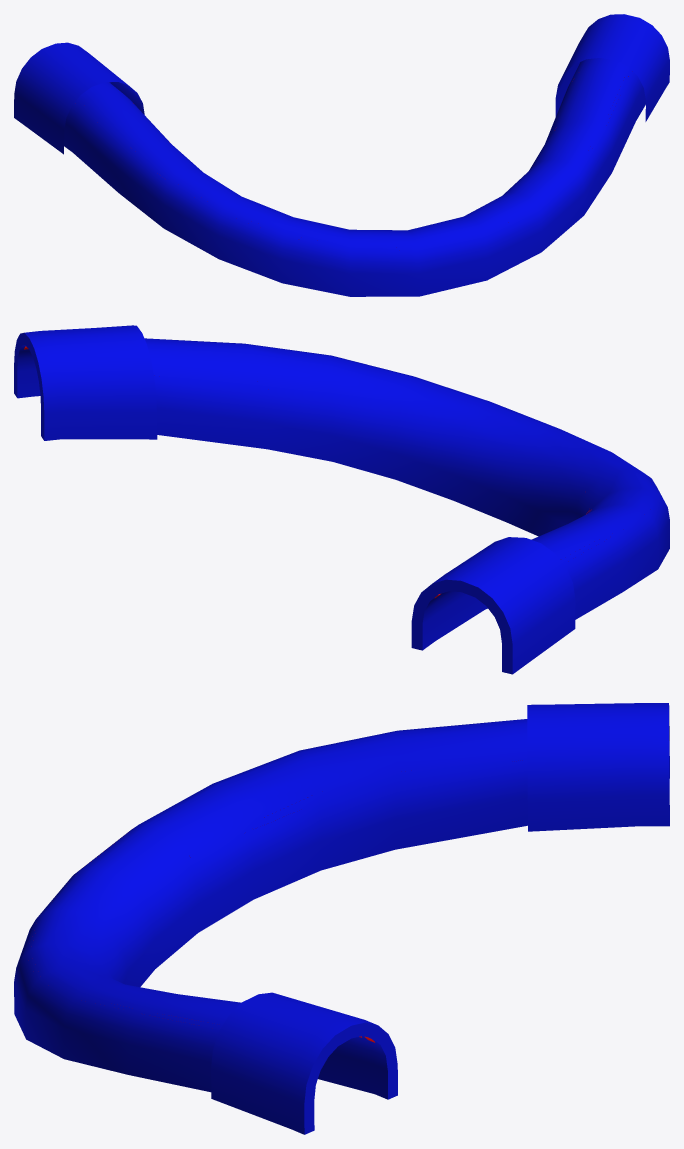
File: Tunnel_Mesh.fbx
3 renders of one model, top to bottom at view 1: azimuth 30°, elevation 25°; view 2: azimuth 150°, elevation 25°; view 3: azimuth 270°, elevation 25°, orthographic. The views are drawn at different scales.
Visible parts, largest first — view 1: Tunnel; view 2: Tunnel; view 3: Tunnel.
Part boxes in pixels (<box>): Tunnel: <box>14,14,669,296</box>; Tunnel: <box>14,325,669,674</box>; Tunnel: <box>14,703,669,1134</box>.
Size of the model in its own units: 6961 by 9155 by 2173.
